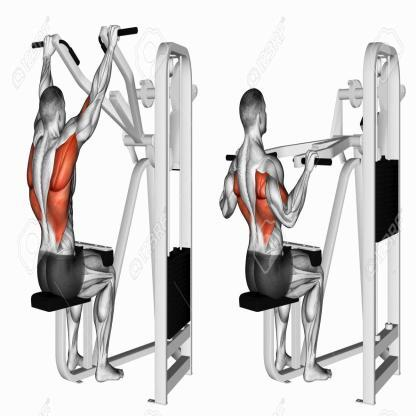Lat Pull Down: (17, 10, 202, 409), (221, 35, 411, 407)
